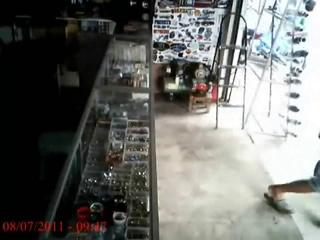Normal: (264, 128, 320, 216)
